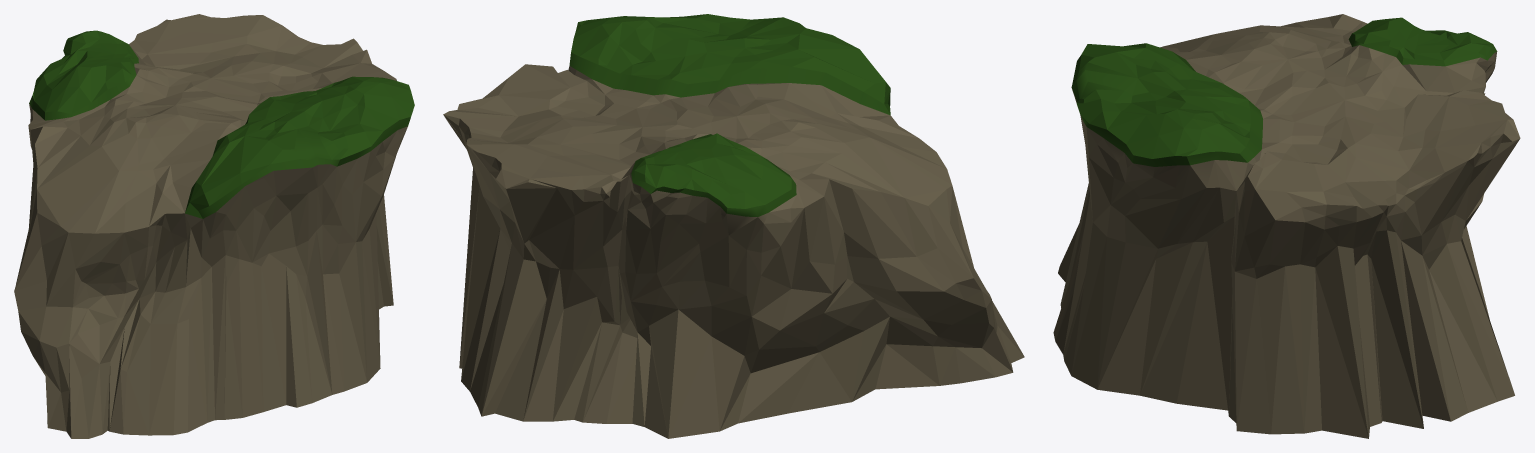
File: ENV_Island_Cliff_01_Tall.fbx
The picture shows the model from 3 angles, left to right: view 1: azimuth 30°, elevation 25°; view 2: azimuth 150°, elevation 25°; view 3: azimuth 270°, elevation 25°; orthographic projection. The views are drawn at different scales.
Parts seen in each view (by area): view 1: ENV_Island_Cliff_01_Tall; view 2: ENV_Island_Cliff_01_Tall; view 3: ENV_Island_Cliff_01_Tall.
Part boxes in pixels (bbox=[...]): ENV_Island_Cliff_01_Tall: bbox=[14, 14, 414, 438]; ENV_Island_Cliff_01_Tall: bbox=[443, 14, 1024, 438]; ENV_Island_Cliff_01_Tall: bbox=[1053, 14, 1520, 438].
Size of the model in its own units: 2675 by 1557 by 2306.
